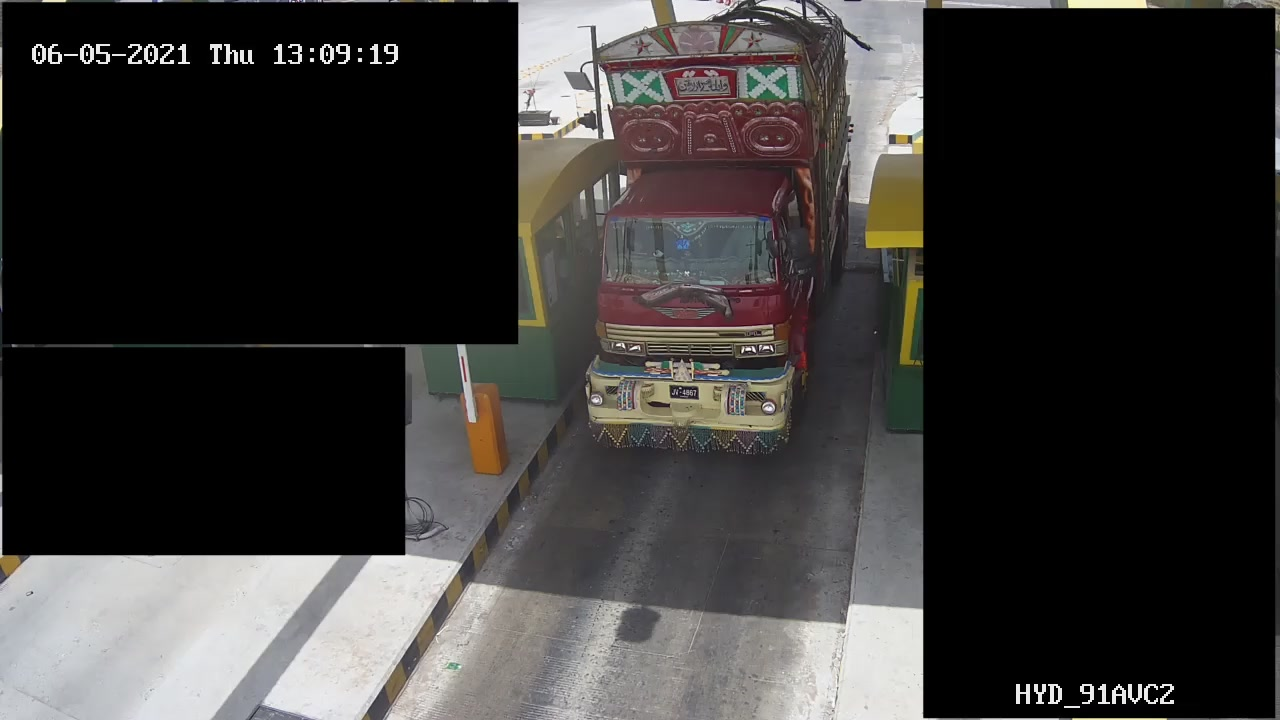F5: (572, 4, 859, 456)
